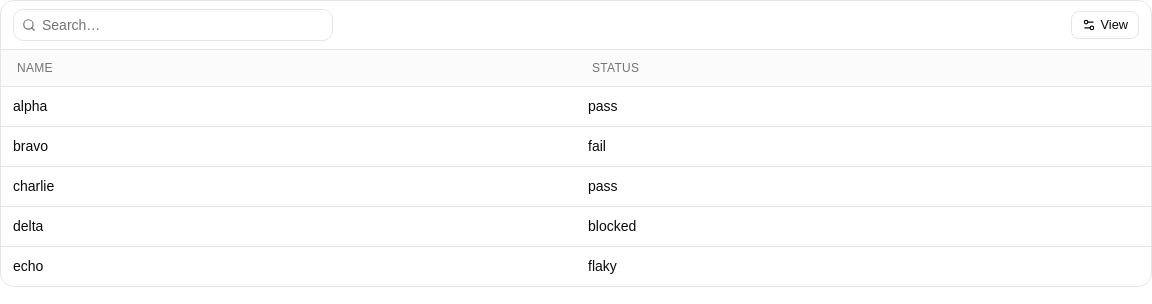
Scenario: DataGrid › filters by global search
Type "fail" into the field with test id "data-grid-global-search" at coordinates (184, 25), box 36,9 -> 332,41
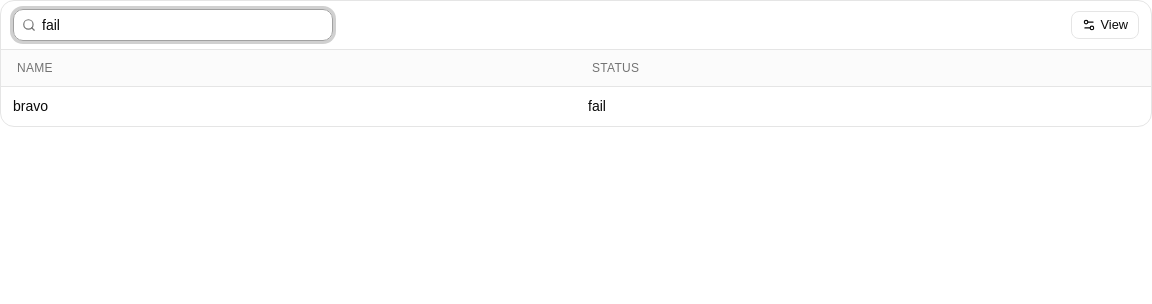
Check: the text "bravo" is shown, box 1,86 -> 576,126
Check: the number of rows with test id "data-grid-row" is 1, box 1,86 -> 1151,126
